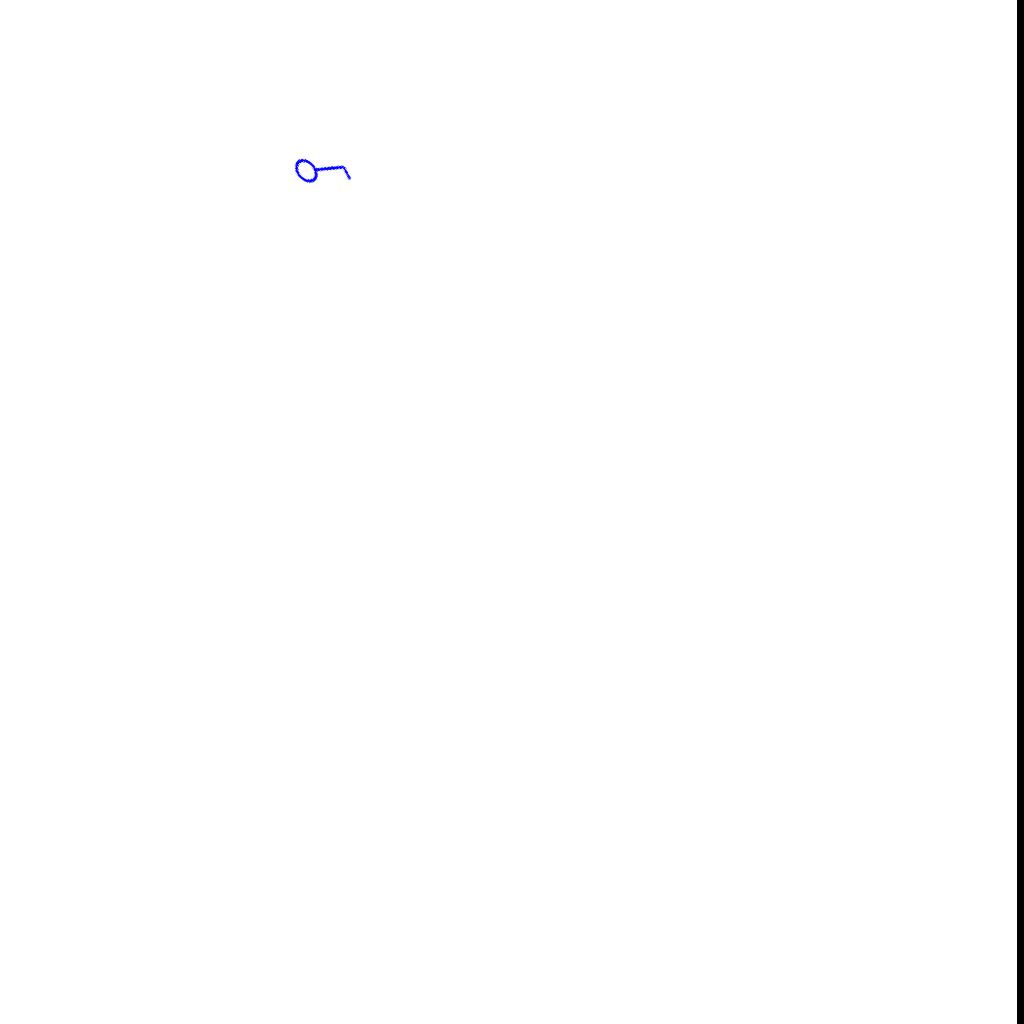Ausschalter: (285, 132, 359, 206)
